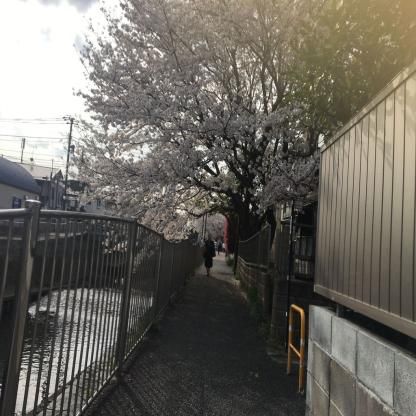Someiyoshino: (52, 0, 345, 280)
